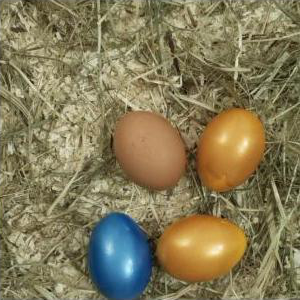egg: (154, 214, 248, 282), (194, 108, 266, 194), (113, 111, 188, 192), (88, 212, 151, 300)
